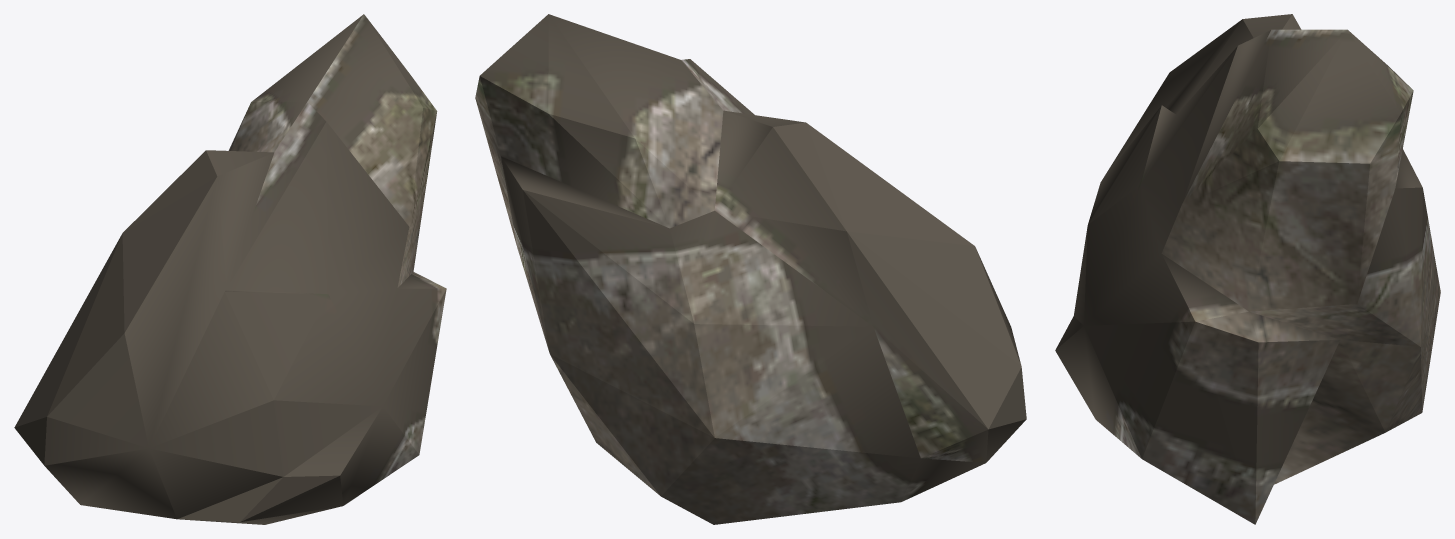
The model's file is bg_anh_gvalley_rock_khk09_sm_old.FBX.
3 renders of one model, left to right at view 1: azimuth 30°, elevation 25°; view 2: azimuth 150°, elevation 25°; view 3: azimuth 270°, elevation 25°, orthographic. The views are drawn at different scales.
Parts seen in each view (by area): view 1: bg_anh_gvalley_rock_khk09_sm_old; view 2: bg_anh_gvalley_rock_khk09_sm_old; view 3: bg_anh_gvalley_rock_khk09_sm_old.
Boxes of the visible parts, x1=… form: bg_anh_gvalley_rock_khk09_sm_old: x1=14, y1=14, x2=446, y2=524; bg_anh_gvalley_rock_khk09_sm_old: x1=475, y1=14, x2=1026, y2=524; bg_anh_gvalley_rock_khk09_sm_old: x1=1055, y1=14, x2=1440, y2=524.
Bounding box in the file's own units: 217 × 203 × 139.
